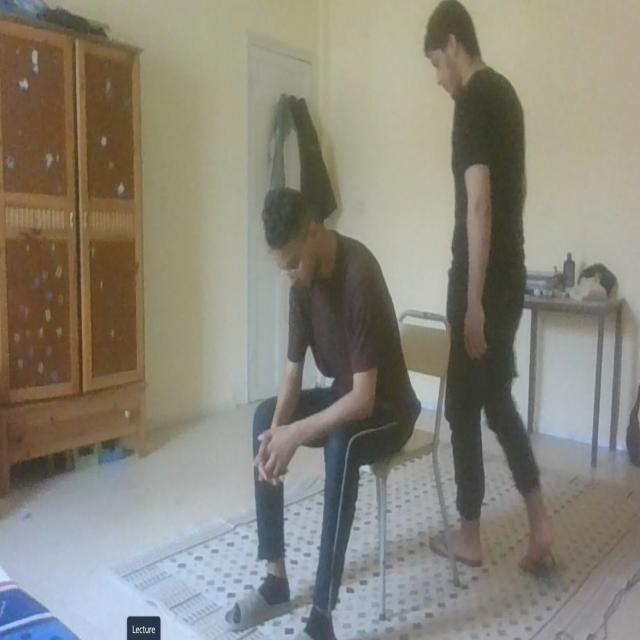non_violence: (218, 184, 425, 640), (413, 10, 556, 577)
